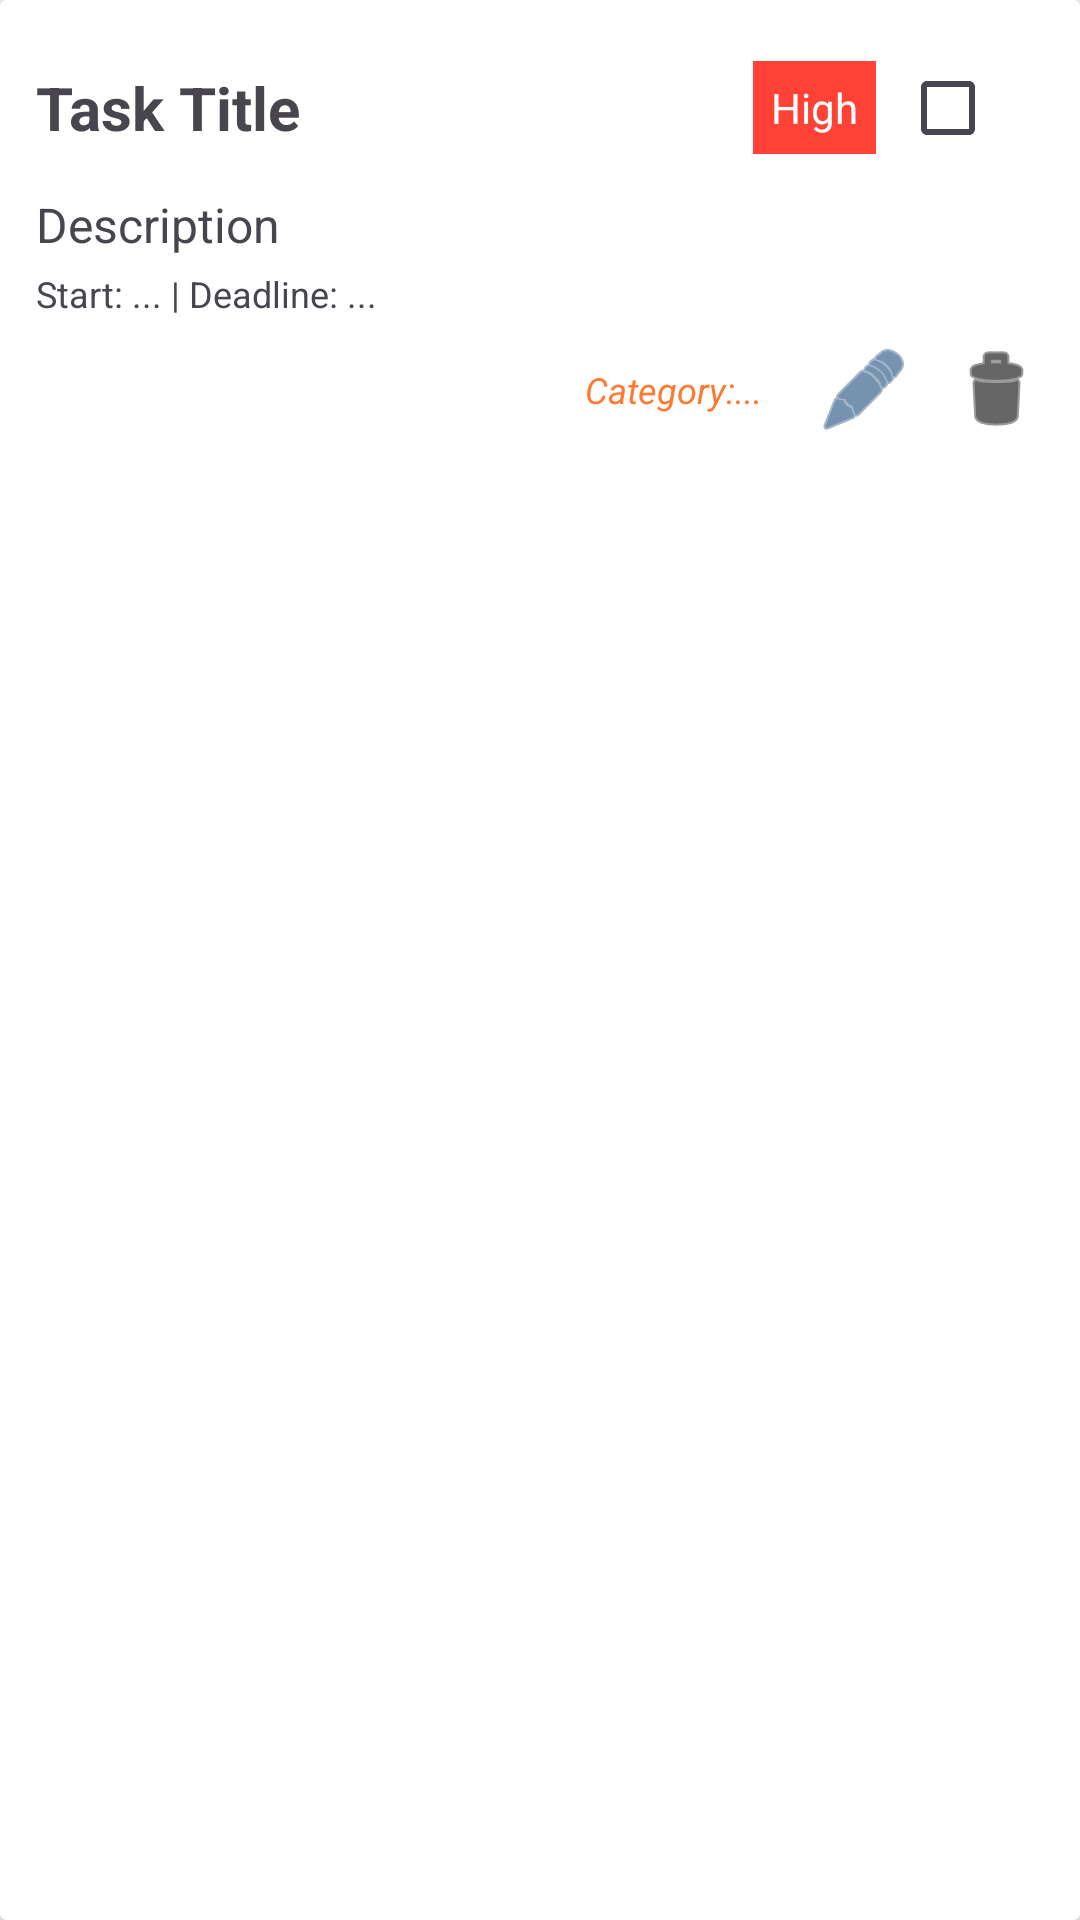

Named icons in this screenshot (1080px×1920px) and their bounding boxes, (x1, y1, x2, y2):
Delete: (969, 351, 1024, 426)
Edit: (823, 349, 904, 430)
